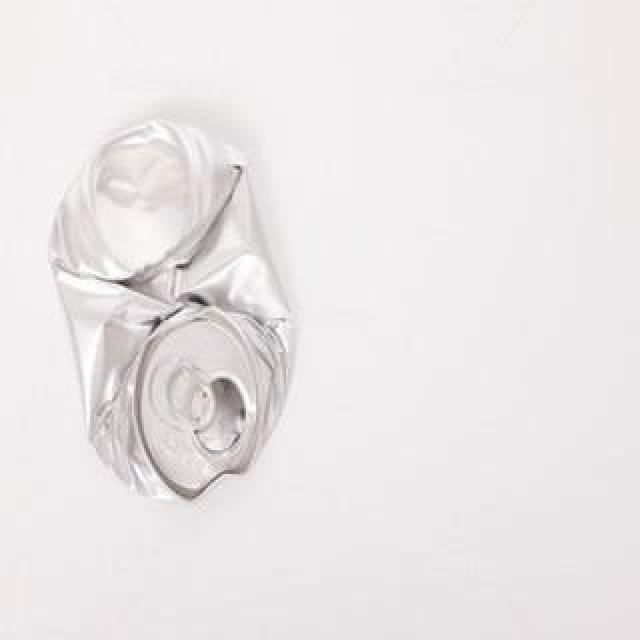kimloai: (52, 122, 288, 498)
